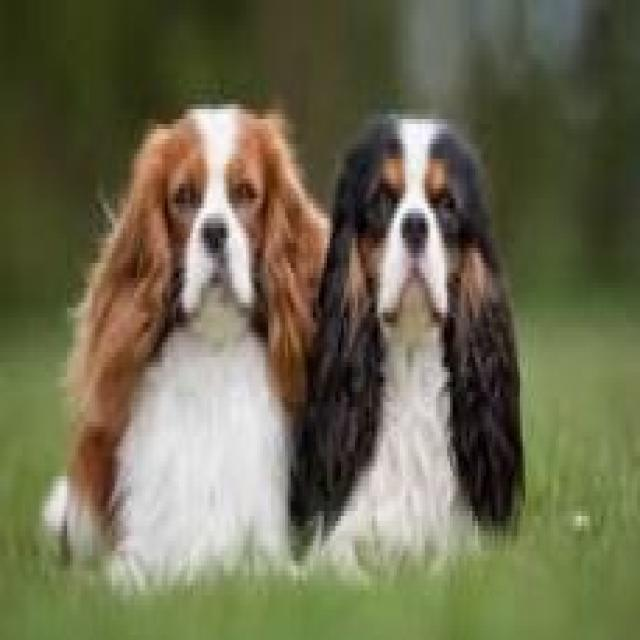Perro: (34, 74, 338, 600), (282, 100, 540, 580)
